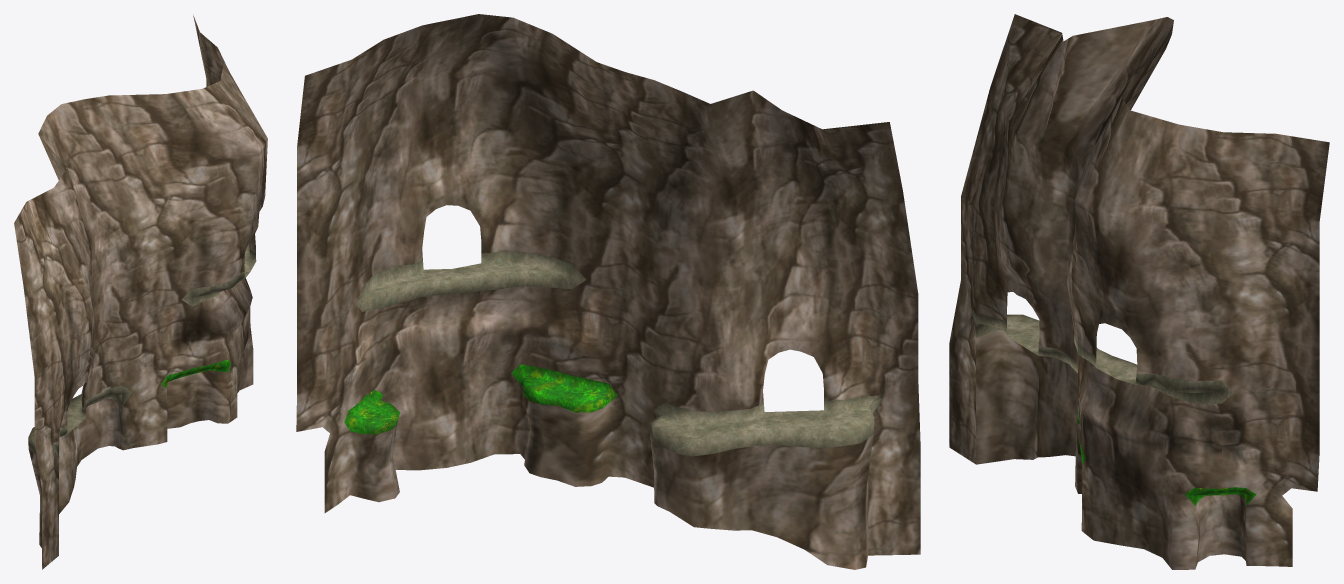
The model's file is EKH_ENTRANCE_PS_EN_WALL_CHUNK374__GX.fbx.
The picture shows the model from 3 angles, left to right: view 1: azimuth 30°, elevation 25°; view 2: azimuth 150°, elevation 25°; view 3: azimuth 270°, elevation 25°; orthographic projection. The views are drawn at different scales.
Visible parts, largest first — view 1: EKH_ENTRANCE_PS_EN_WALL_CHUNK374__GX; view 2: EKH_ENTRANCE_PS_EN_WALL_CHUNK374__GX; view 3: EKH_ENTRANCE_PS_EN_WALL_CHUNK374__GX.
Boxes of the visible parts, left/top/right/bottom form: EKH_ENTRANCE_PS_EN_WALL_CHUNK374__GX: left=14, top=15, right=267, bottom=569; EKH_ENTRANCE_PS_EN_WALL_CHUNK374__GX: left=296, top=14, right=920, bottom=569; EKH_ENTRANCE_PS_EN_WALL_CHUNK374__GX: left=949, top=14, right=1329, bottom=569.
Size of the model in its own units: 155397 by 181449 by 126152.
Materials: 3 (3 with a texture image).
